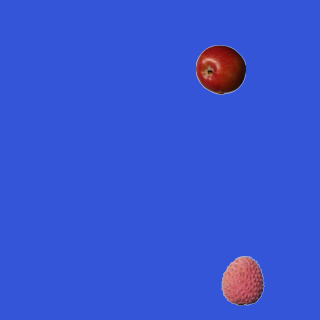Apple Braeburn: (195, 44, 245, 94)
Lychee: (217, 255, 267, 305)
